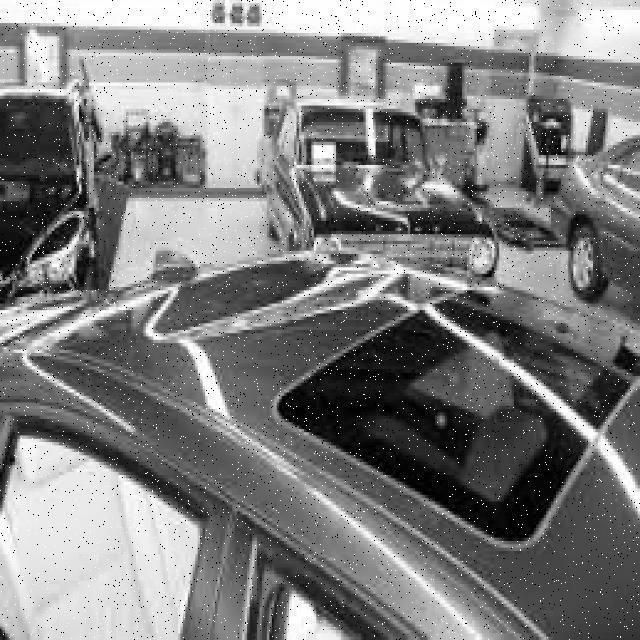roof-dent: (45, 248, 465, 449)
